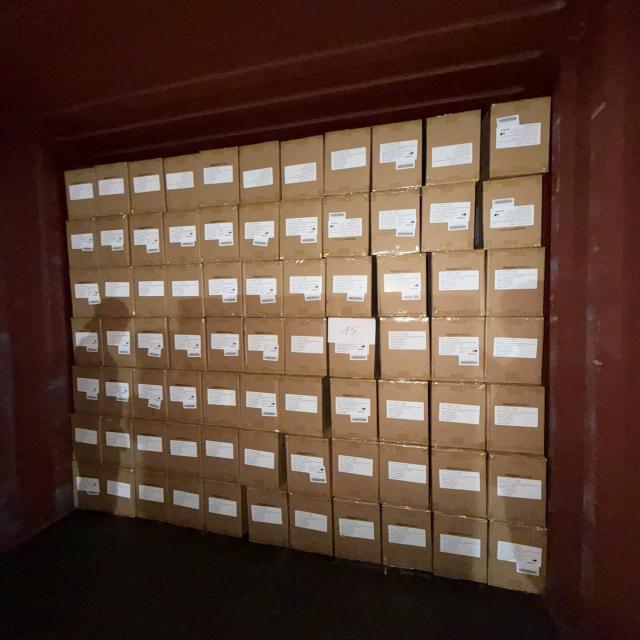Carton: (486, 95, 554, 180), (487, 518, 551, 598), (487, 449, 550, 528), (481, 175, 544, 249), (424, 108, 484, 185), (489, 383, 549, 457), (488, 248, 549, 320), (429, 446, 486, 520), (485, 316, 545, 386), (368, 118, 425, 191), (434, 512, 490, 586), (429, 381, 486, 453), (132, 420, 204, 476), (429, 251, 486, 320), (321, 122, 374, 196), (133, 266, 205, 320), (421, 183, 477, 252), (379, 508, 431, 579), (430, 318, 484, 385), (104, 416, 138, 519), (377, 381, 429, 448), (378, 442, 429, 510), (332, 500, 382, 568), (369, 189, 419, 256), (107, 319, 170, 372), (378, 318, 430, 382), (376, 254, 427, 319), (327, 318, 377, 382), (284, 434, 332, 500), (322, 192, 370, 258), (332, 440, 381, 504), (281, 131, 324, 203), (330, 378, 378, 442), (287, 492, 333, 558), (326, 255, 373, 319), (198, 144, 244, 209), (236, 138, 278, 208), (247, 488, 291, 550), (284, 318, 329, 378), (240, 431, 284, 492), (281, 374, 325, 435), (203, 476, 244, 540), (284, 259, 327, 319), (131, 466, 174, 525), (280, 201, 322, 261), (126, 155, 168, 215), (162, 151, 203, 212), (241, 200, 282, 260), (242, 372, 283, 432), (246, 318, 286, 376), (245, 262, 285, 320), (93, 160, 133, 218), (202, 262, 242, 318), (69, 458, 109, 514), (98, 264, 138, 320), (94, 212, 132, 270), (201, 424, 238, 483), (202, 204, 240, 261), (206, 318, 244, 374), (172, 475, 208, 534), (203, 374, 240, 431), (61, 166, 100, 220), (169, 264, 207, 319), (168, 319, 205, 374), (167, 209, 204, 264), (166, 423, 202, 479), (67, 267, 105, 320), (100, 364, 136, 418), (170, 373, 206, 426), (64, 217, 99, 271), (70, 364, 106, 416), (70, 412, 106, 464), (129, 215, 164, 268), (132, 368, 166, 422), (132, 265, 166, 318), (101, 418, 134, 468), (72, 319, 104, 369)
